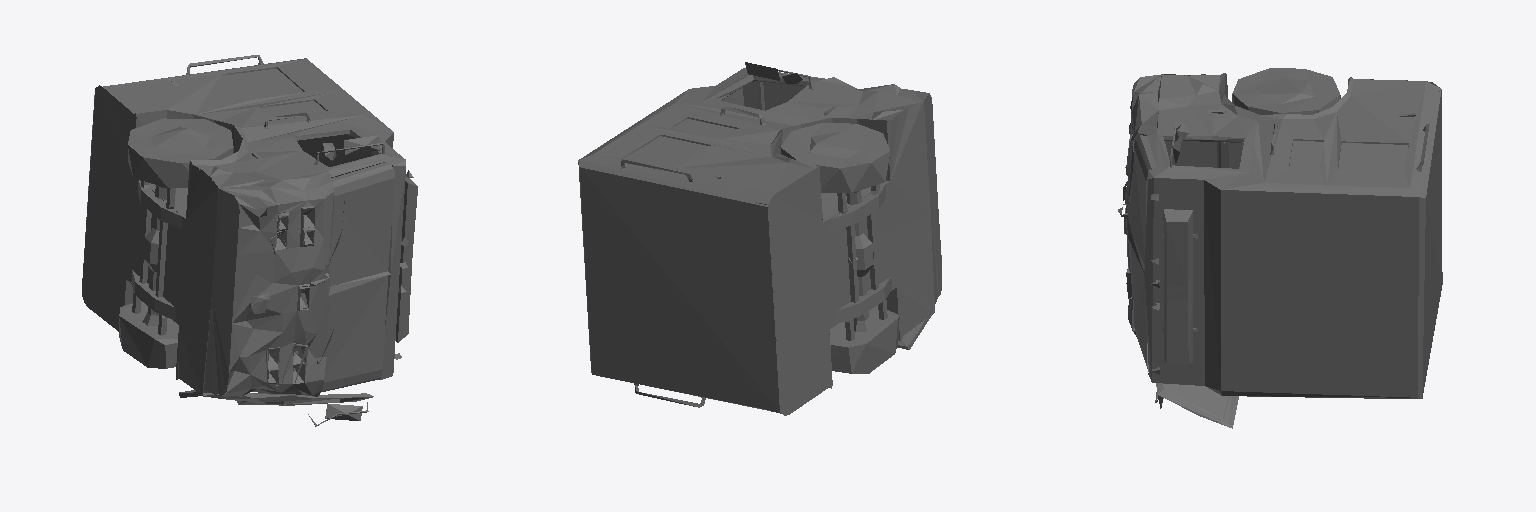
File: truck_simple.obj
3 renders of one model, left to right at view 1: azimuth 30°, elevation 25°; view 2: azimuth 150°, elevation 25°; view 3: azimuth 270°, elevation 25°, orthographic.
Visible parts, largest first — view 1: 0, 4, 5, 3, 1; view 2: 0, 4, 3, 5, 1; view 3: 0, 5, 3, 1.
Part boxes in pixels (x1,y1,x2,y2): 0: (82, 55, 417, 426); 4: (82, 85, 239, 395); 5: (224, 69, 394, 399); 3: (119, 118, 233, 368); 1: (86, 107, 373, 229); 0: (578, 62, 941, 412); 4: (768, 93, 941, 415); 3: (780, 123, 899, 373); 5: (625, 72, 824, 168); 1: (721, 80, 805, 413); 0: (1118, 73, 1442, 428); 5: (1131, 135, 1408, 423); 3: (1232, 68, 1340, 114); 1: (1164, 91, 1439, 168).
Size of the model in its own units: 3.2 by 3.65 by 3.75.